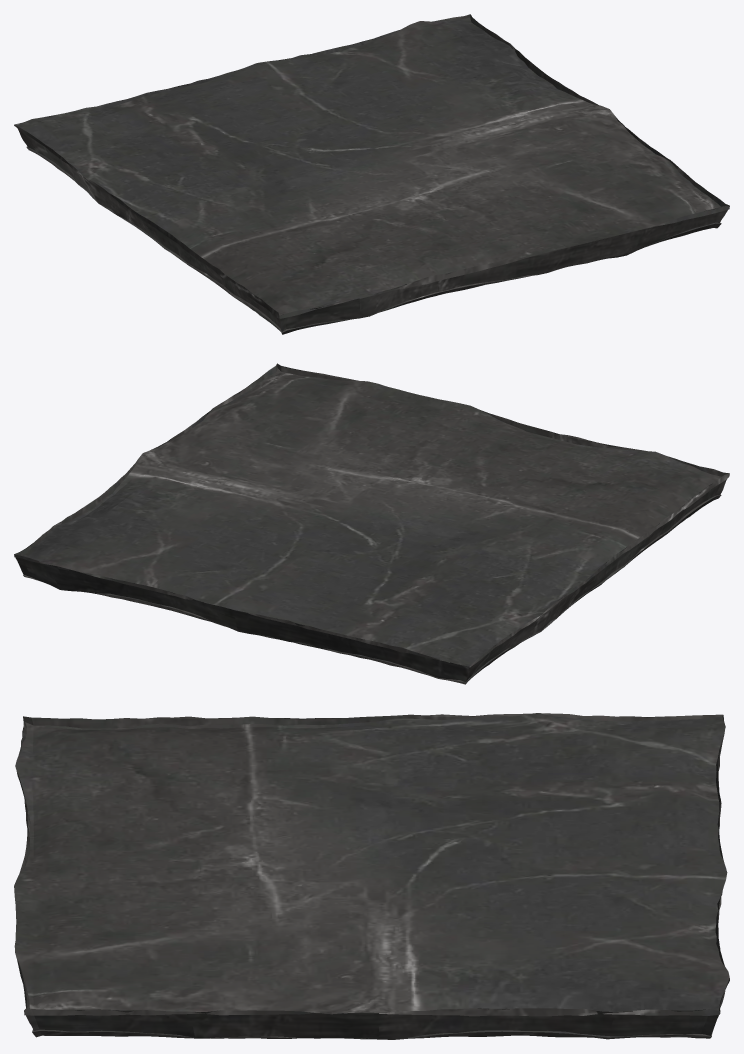
The model's file is slate-coaster.glb.
The picture shows the model from 3 angles, top to bottom: view 1: azimuth 30°, elevation 25°; view 2: azimuth 150°, elevation 25°; view 3: azimuth 270°, elevation 25°; orthographic projection. The views are drawn at different scales.
Parts seen in each view (by area): view 1: SlateCoaster; view 2: SlateCoaster; view 3: SlateCoaster.
Boxes of the visible parts, bbox=[...] form: SlateCoaster: bbox=[14, 14, 729, 334]; SlateCoaster: bbox=[14, 363, 729, 684]; SlateCoaster: bbox=[14, 713, 729, 1039].
Bounding box in the file's own units: 0.1019 × 0.00598 × 0.1023.
Materials: 1 (1 with a texture image).
